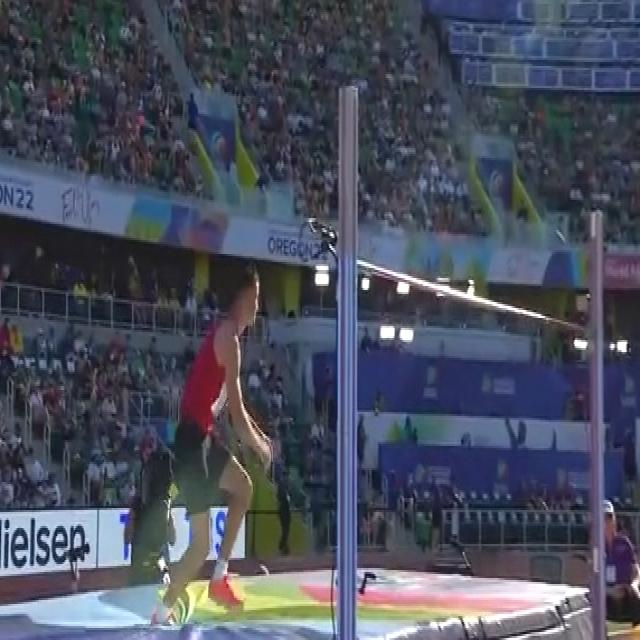land: (148, 263, 273, 632)
